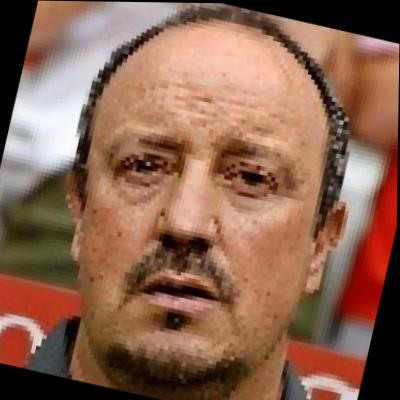sad: (34, 0, 383, 400)
